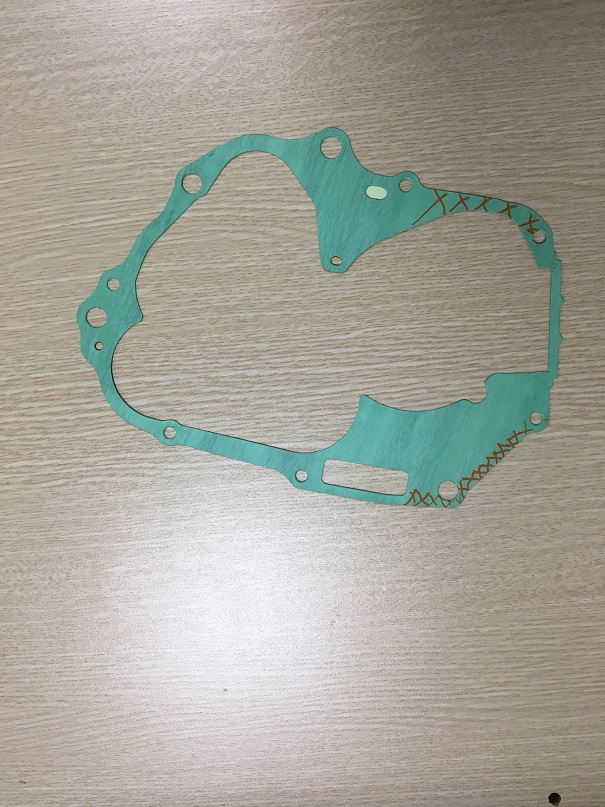type3: (64, 114, 571, 520)
